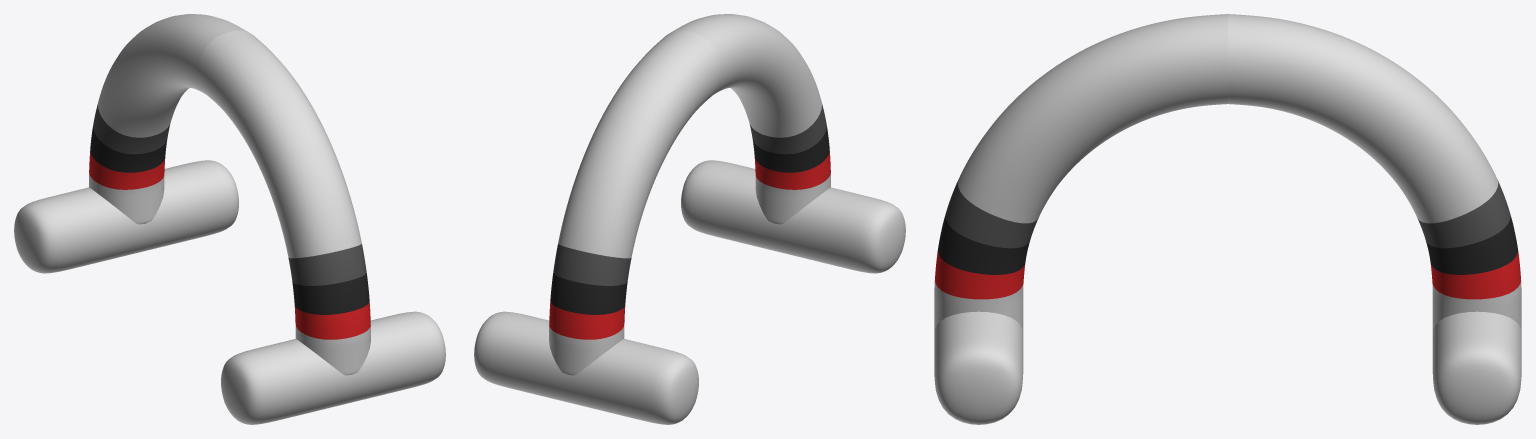
The model's file is pneumatic_gate.fbx.
The picture shows the model from 3 angles, left to right: view 1: azimuth 30°, elevation 25°; view 2: azimuth 150°, elevation 25°; view 3: azimuth 270°, elevation 25°; orthographic projection. The views are drawn at different scales.
Visible parts, largest first — view 1: gate; view 2: gate; view 3: gate.
Part boxes in pixels (bbox=[...]): gate: bbox=[14, 14, 445, 424]; gate: bbox=[474, 14, 905, 424]; gate: bbox=[934, 14, 1521, 424].
Size of the model in its own units: 687 by 943 by 1414.
